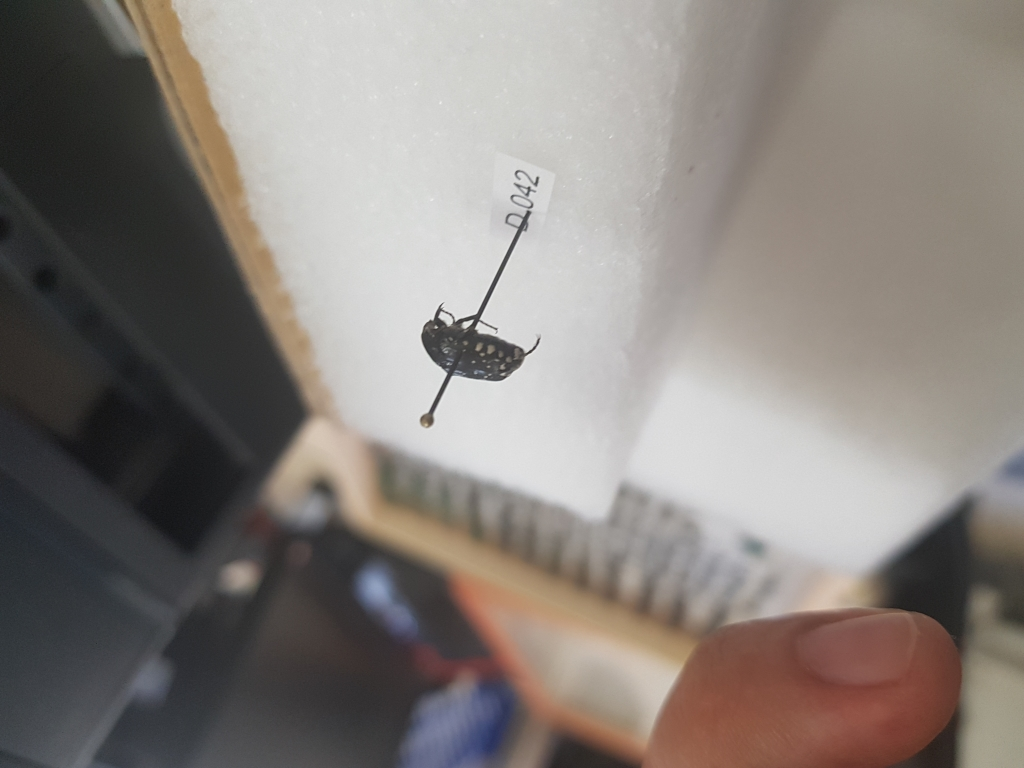Oxythyrea_cinctella: (423, 298, 543, 384)
